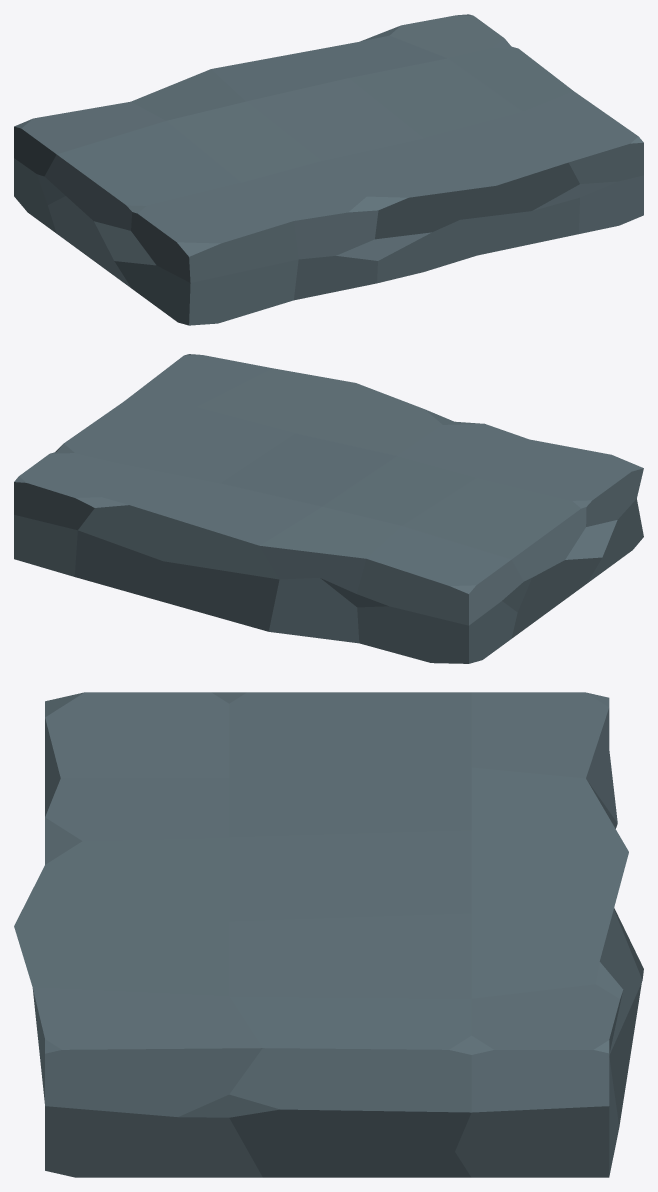
The model's file is StonePlatformNoGrass(6x4x1).fbx.
3 views of the same model, one above another, from view 1: azimuth 30°, elevation 25°; view 2: azimuth 150°, elevation 25°; view 3: azimuth 270°, elevation 25° (orthographic). The views are drawn at different scales.
Visible parts, largest first — view 1: rock; view 2: rock; view 3: rock.
Boxes of the visible parts, left/top/right/bottom form: rock: left=14, top=14, right=643, bottom=325; rock: left=14, top=354, right=643, bottom=663; rock: left=14, top=692, right=643, bottom=1177.
Bounding box in the file's own units: 650 × 109 × 447.
